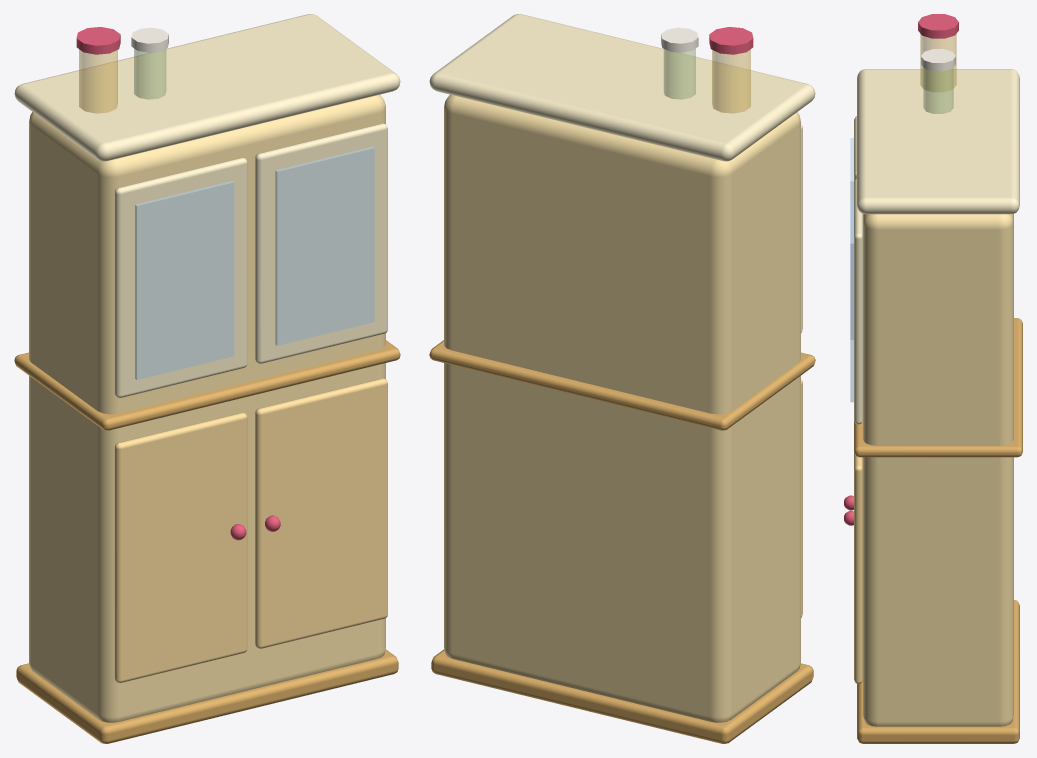
The model's file is pantry.glb.
The picture shows the model from 3 angles, left to right: view 1: azimuth 30°, elevation 25°; view 2: azimuth 150°, elevation 25°; view 3: azimuth 270°, elevation 25°; orthographic projection. The views are drawn at different scales.
Size of the model in its own units: 1.06 by 2.23 by 0.5932.
